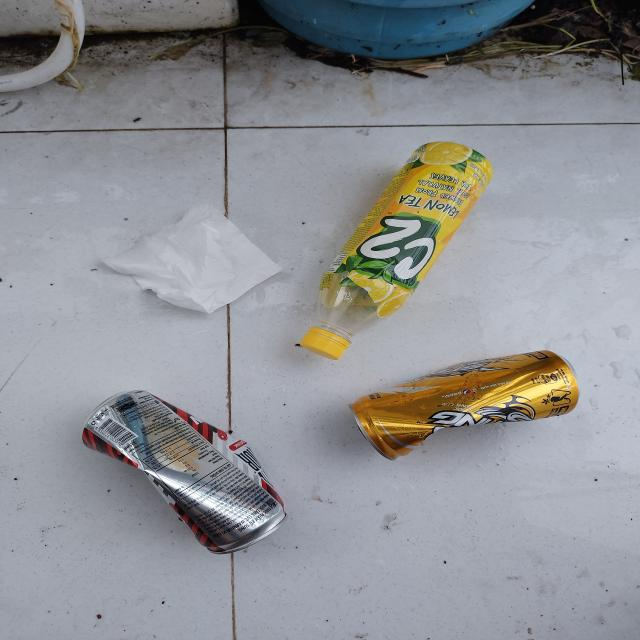bottle: (299, 141, 494, 360)
can: (80, 388, 289, 556), (350, 352, 581, 462)
napkin: (97, 200, 283, 316)
